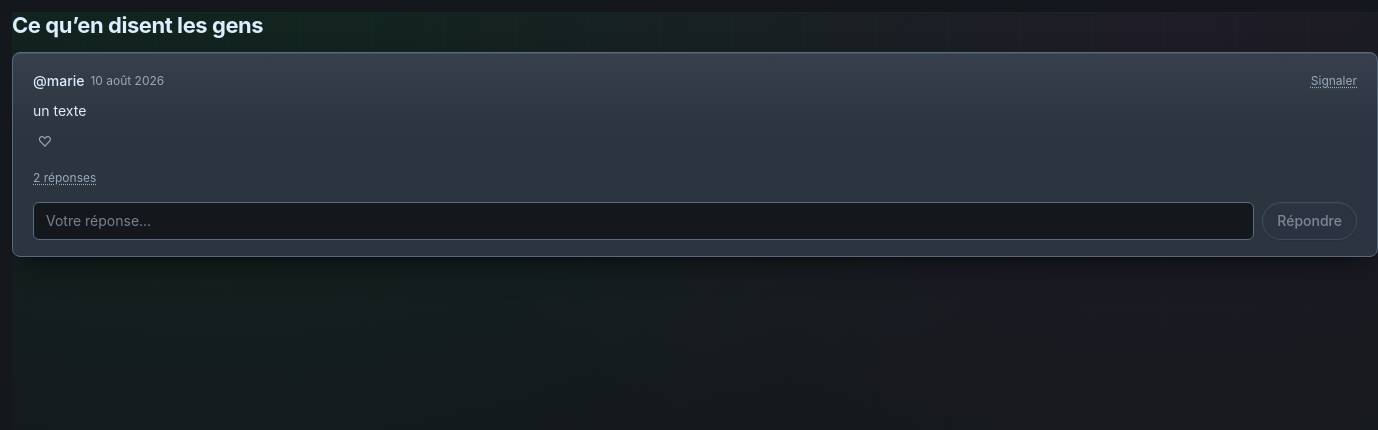
Test: qui peut quoi › 🔴 « Retirer » n’apparait QUE sur sa propre reponse
The width and height of the screenshot is (1378, 430).
Click the button "2 réponses" at (65, 178), box [33,162,96,194]
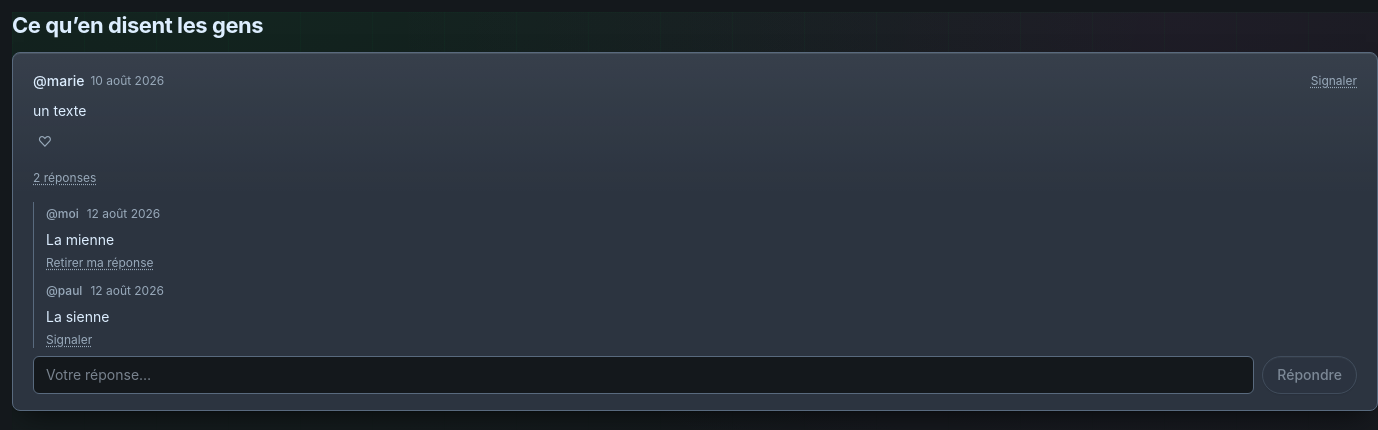
Expected: the text "La sienne" is shown, [46,308,109,325]
Expected: the number of buttons "Retirer ma réponse" is 1, [46,246,154,278]
